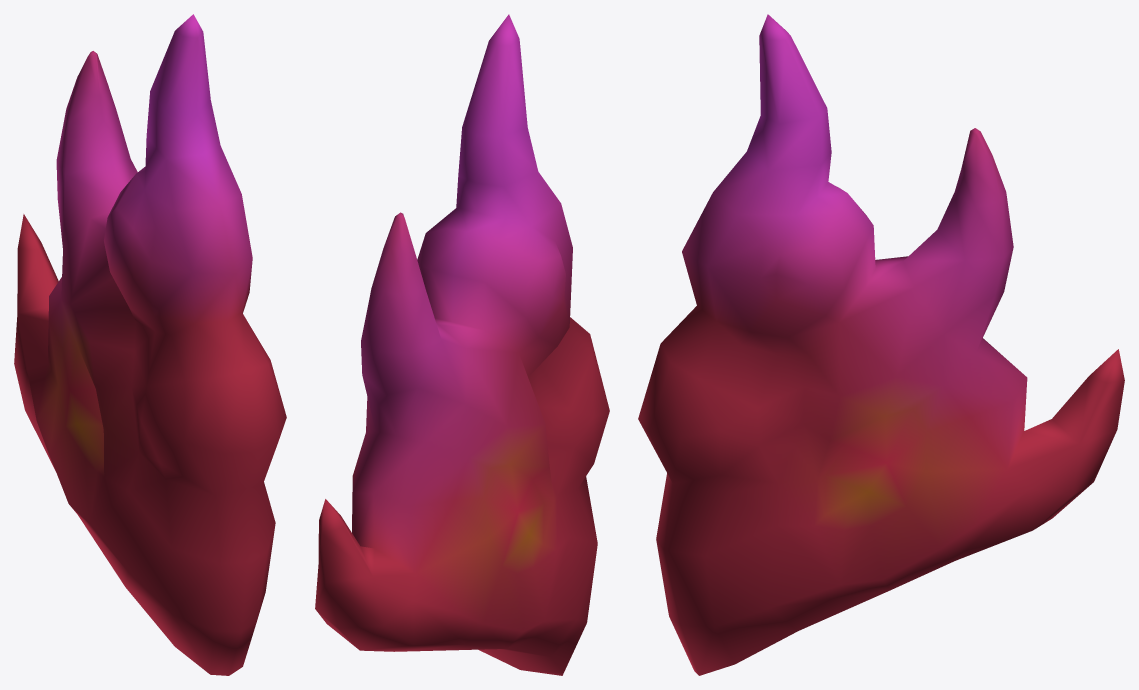
File: S12_Bird06_L2_Horn.glb
3 views of the same model, side by side, from view 1: azimuth 30°, elevation 25°; view 2: azimuth 150°, elevation 25°; view 3: azimuth 270°, elevation 25° (orthographic). The views are drawn at different scales.
Parts seen in each view (by area): view 1: S12_Bird06_L2_Horn__Horn_T__surface0__lod0; view 2: S12_Bird06_L2_Horn__Horn_T__surface0__lod0; view 3: S12_Bird06_L2_Horn__Horn_T__surface0__lod0.
Part boxes in pixels (x1=…): S12_Bird06_L2_Horn__Horn_T__surface0__lod0: x1=14, y1=14, x2=286, y2=675; S12_Bird06_L2_Horn__Horn_T__surface0__lod0: x1=315, y1=14, x2=609, y2=675; S12_Bird06_L2_Horn__Horn_T__surface0__lod0: x1=638, y1=14, x2=1124, y2=675.
Bounding box in the file's own units: 0.1639 × 0.7183 × 0.4822.
